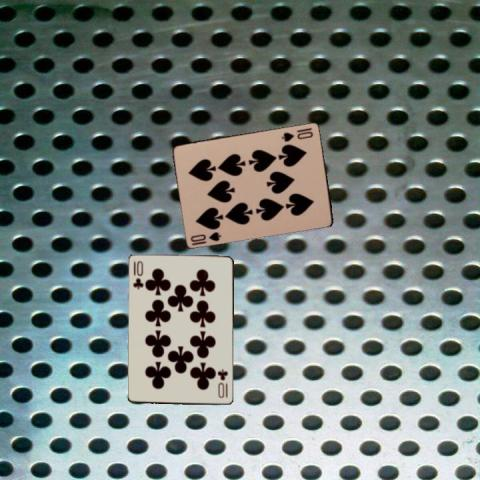10c: (130, 258, 145, 291), (216, 366, 230, 400)
10s: (279, 128, 315, 143), (188, 228, 223, 242)
